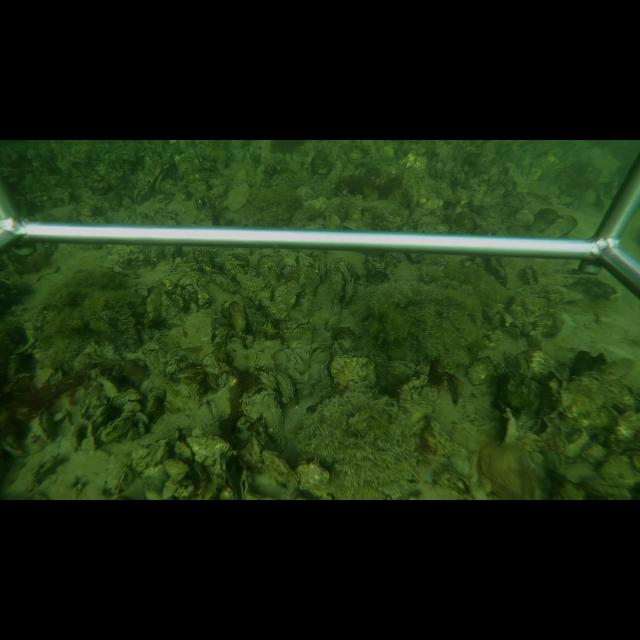Oyster-Closed: (4, 436, 77, 494), (330, 354, 380, 389), (259, 450, 298, 492), (208, 454, 240, 500), (87, 406, 114, 451), (98, 416, 132, 445), (272, 279, 301, 310), (225, 299, 248, 336), (257, 254, 281, 288), (446, 372, 465, 410), (274, 371, 294, 407), (109, 388, 145, 408), (4, 371, 33, 393), (238, 466, 249, 500)
Oyster-Open: (285, 320, 317, 347)
